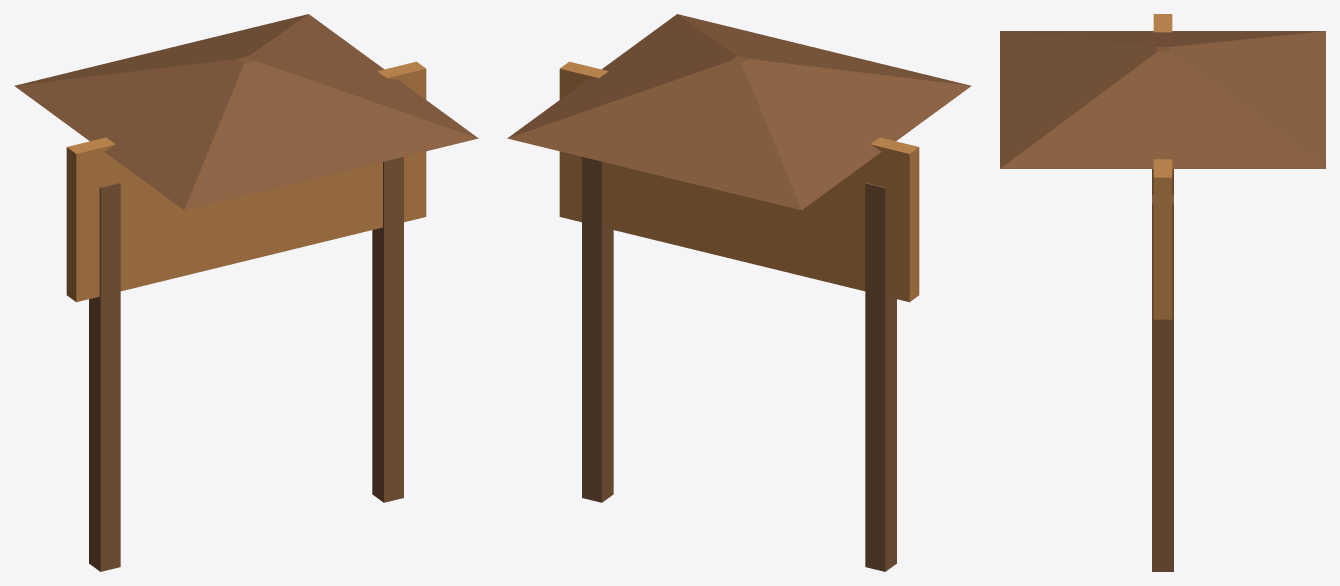
The model's file is signboard.glb.
3 views of the same model, side by side, from view 1: azimuth 30°, elevation 25°; view 2: azimuth 150°, elevation 25°; view 3: azimuth 270°, elevation 25° (orthographic). The views are drawn at different scales.
Parts seen in each view (by area): view 1: signboard; view 2: signboard; view 3: signboard.
Boxes of the visible parts, x1,y1,x2,y2 form: signboard: [14, 14, 478, 571]; signboard: [507, 14, 971, 571]; signboard: [1000, 14, 1325, 571].
Size of the model in its own units: 2.1 by 2.7 by 1.77.
